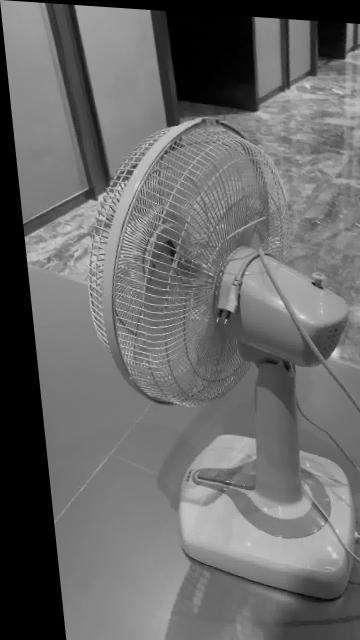Fan: (80, 114, 344, 600)
